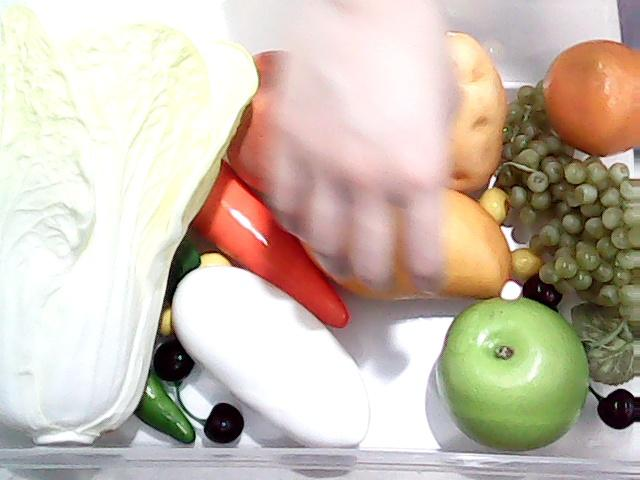apple: (430, 290, 598, 458)
carrot: (188, 161, 352, 329)
grape: (510, 123, 640, 310)
lemon: (524, 34, 640, 163)
mango: (298, 166, 518, 306)
napa cabbage: (0, 0, 264, 448)
peach: (210, 42, 346, 190)
pepper: (100, 327, 200, 449)
potato: (434, 28, 506, 196)
radish: (148, 220, 372, 450)
